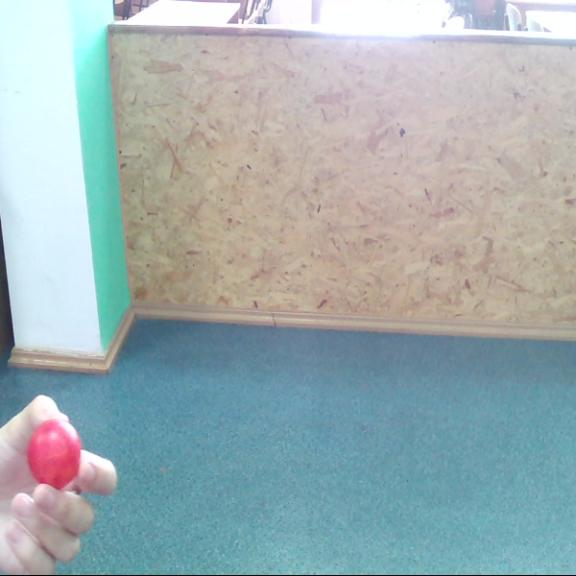ball: (24, 419, 83, 488)
